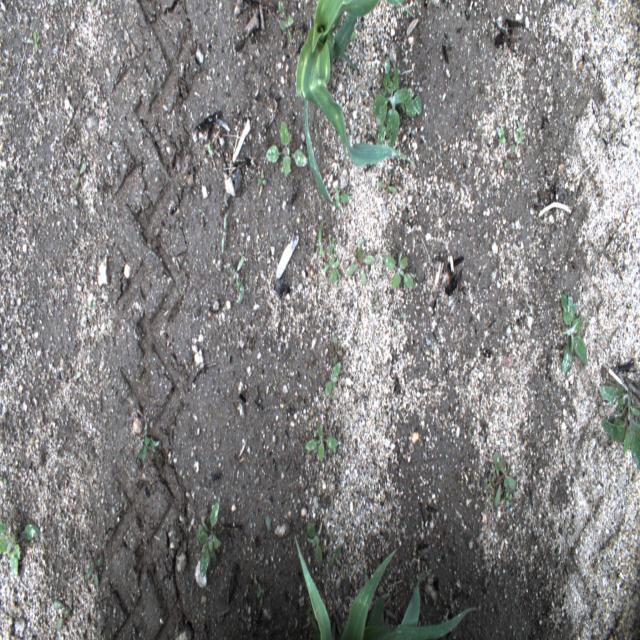crop: (296, 0, 415, 208), (290, 531, 481, 639)
weed: (372, 52, 423, 144), (599, 371, 638, 473), (556, 284, 590, 373), (266, 121, 310, 181), (485, 448, 517, 519), (2, 520, 41, 578), (195, 500, 222, 581), (314, 219, 343, 284), (342, 240, 379, 290), (318, 328, 342, 402), (382, 250, 418, 296), (225, 251, 249, 313), (304, 421, 339, 462), (135, 416, 161, 463), (70, 153, 92, 206), (274, 0, 298, 44), (82, 549, 104, 595), (49, 592, 73, 630), (305, 520, 325, 564), (374, 167, 400, 200), (214, 212, 232, 258), (26, 26, 49, 61), (512, 119, 530, 160), (252, 575, 269, 617), (585, 3, 605, 37), (589, 85, 612, 113), (498, 151, 520, 178), (330, 534, 344, 575), (202, 137, 222, 164), (194, 197, 210, 230), (335, 187, 357, 210), (258, 505, 276, 531), (255, 168, 272, 195), (0, 468, 14, 496), (494, 125, 506, 151)
